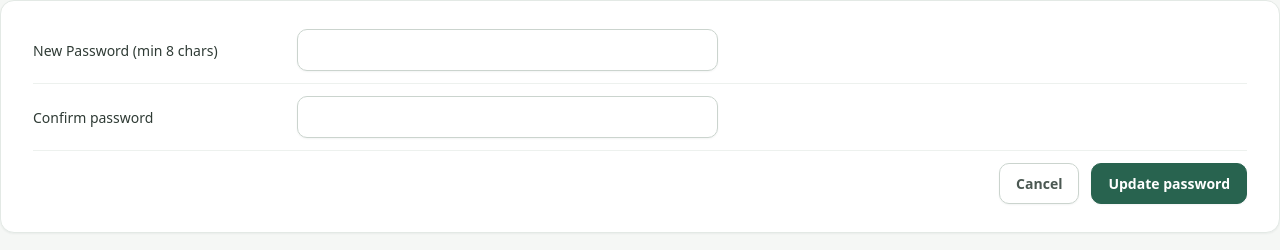
Scenario: UpdatePasswordForm › rejects a password shorter than eight characters
Type "short" into the password field labelled "New Password (min 8 chars)" at coordinates (507, 50), box 297,29 -> 718,71
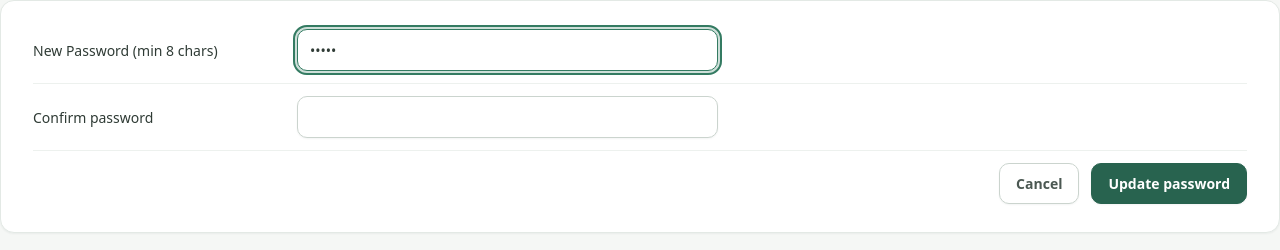
Type "short" into the password field labelled "Confirm password" at coordinates (507, 117), box 297,96 -> 718,138
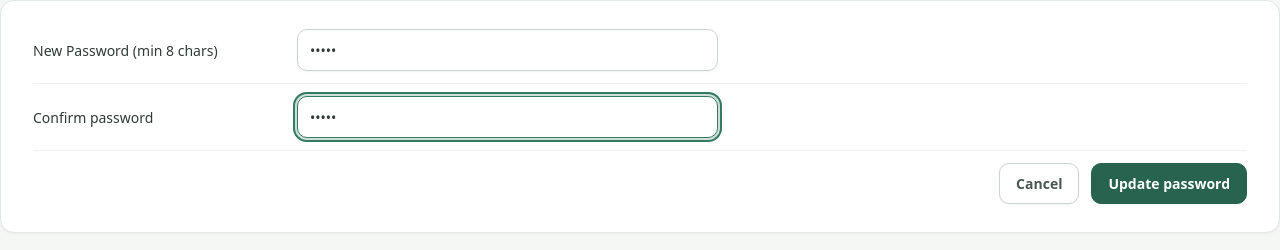
Click the button "Update password" at coordinates (1169, 184), box 1091,163 -> 1247,204
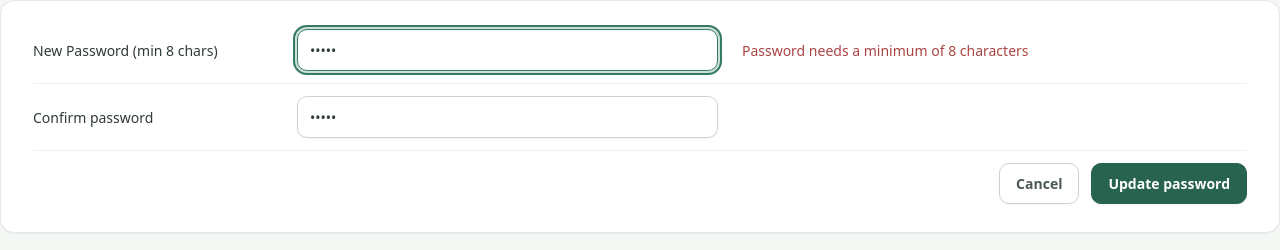
Check: the text "Password needs a minimum of 8 characters" is shown, box 742,40 -> 1028,60
